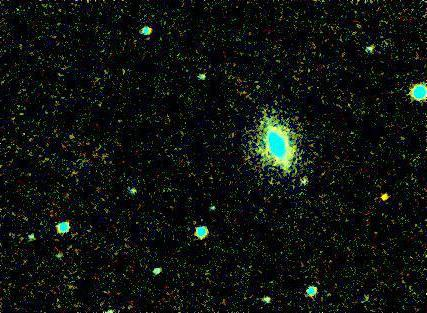star: (371, 184, 401, 214)
